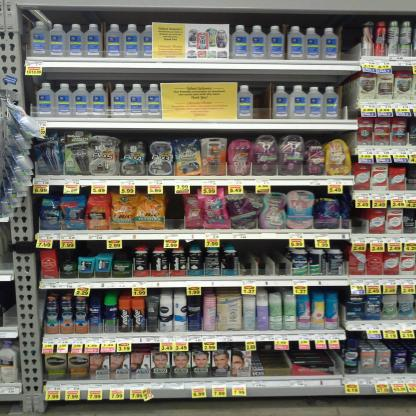Void: (235, 242, 287, 277), (166, 194, 182, 230), (341, 30, 359, 60), (4, 285, 16, 326), (258, 84, 271, 118), (343, 87, 353, 116), (354, 210, 365, 232), (85, 241, 102, 252)
